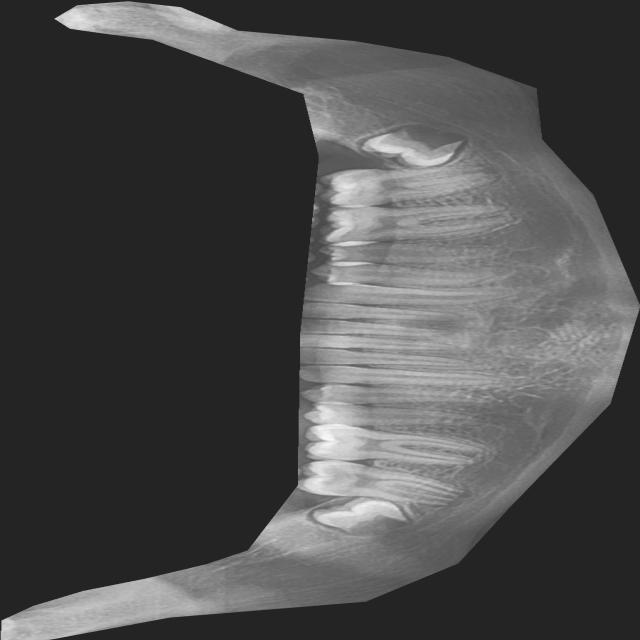mandibula: (0, 0, 640, 640)
